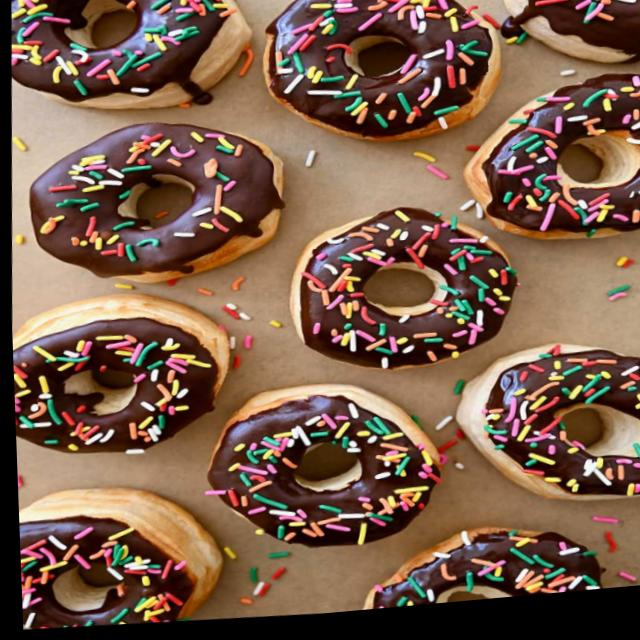donut: (19, 110, 294, 301), (192, 373, 445, 569), (278, 200, 523, 391), (9, 285, 241, 467), (257, 0, 511, 159), (444, 342, 640, 521), (14, 476, 225, 636), (462, 74, 640, 263), (7, 0, 255, 126), (347, 519, 602, 617), (497, 0, 640, 83)
